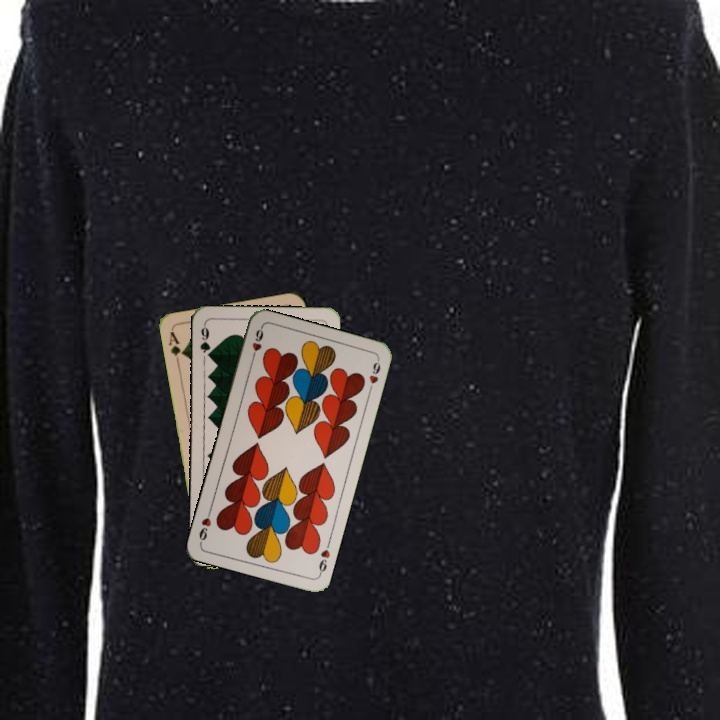G9: (196, 321, 214, 361)
GA: (165, 327, 187, 368)
H9: (248, 324, 266, 364), (315, 538, 333, 578)
